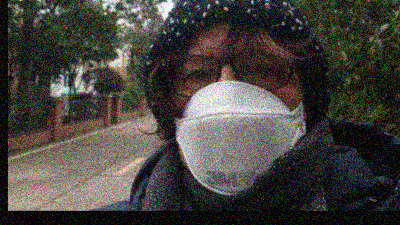with_mask: (168, 39, 305, 195)
